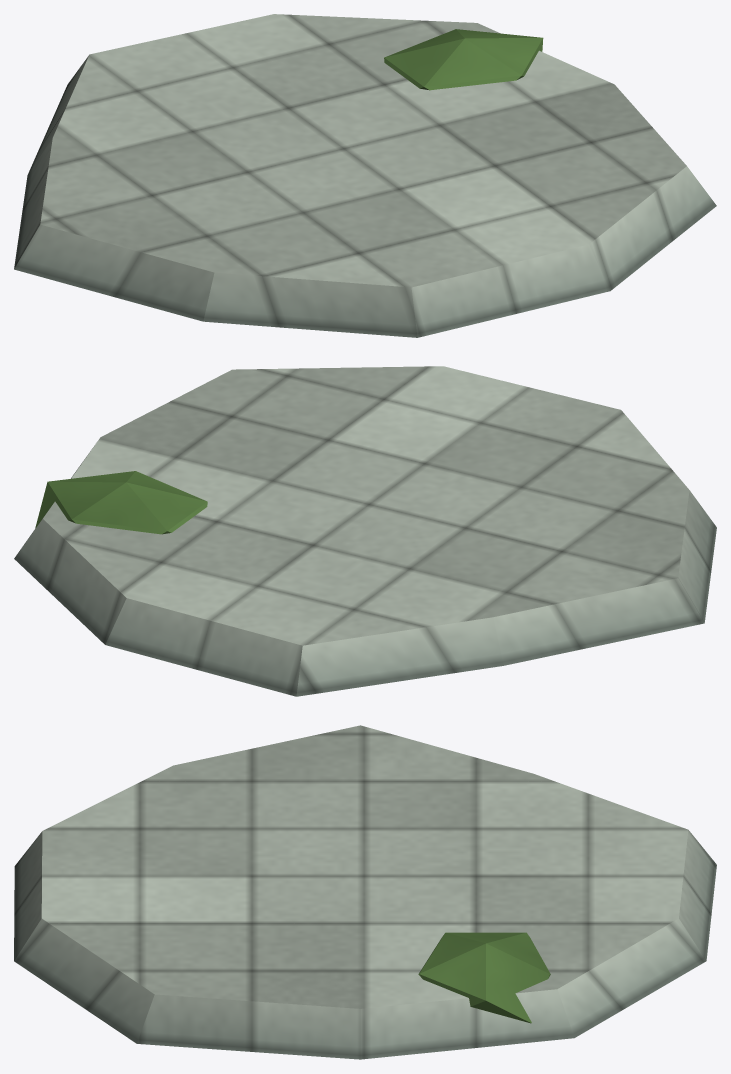
The model's file is pale_stone_a.glb.
3 views of the same model, one above another, from view 1: azimuth 30°, elevation 25°; view 2: azimuth 150°, elevation 25°; view 3: azimuth 270°, elevation 25° (orthographic).
Visible parts, largest first — view 1: pale_stone_a; view 2: pale_stone_a; view 3: pale_stone_a.
Part boxes in pixels (x1,y1,x2,y2): pale_stone_a: [14, 14, 716, 337]; pale_stone_a: [14, 366, 716, 696]; pale_stone_a: [14, 725, 716, 1059].
Bounding box in the file's own units: 2.03 × 0.1884 × 1.96.
2 materials, 2 textured.
